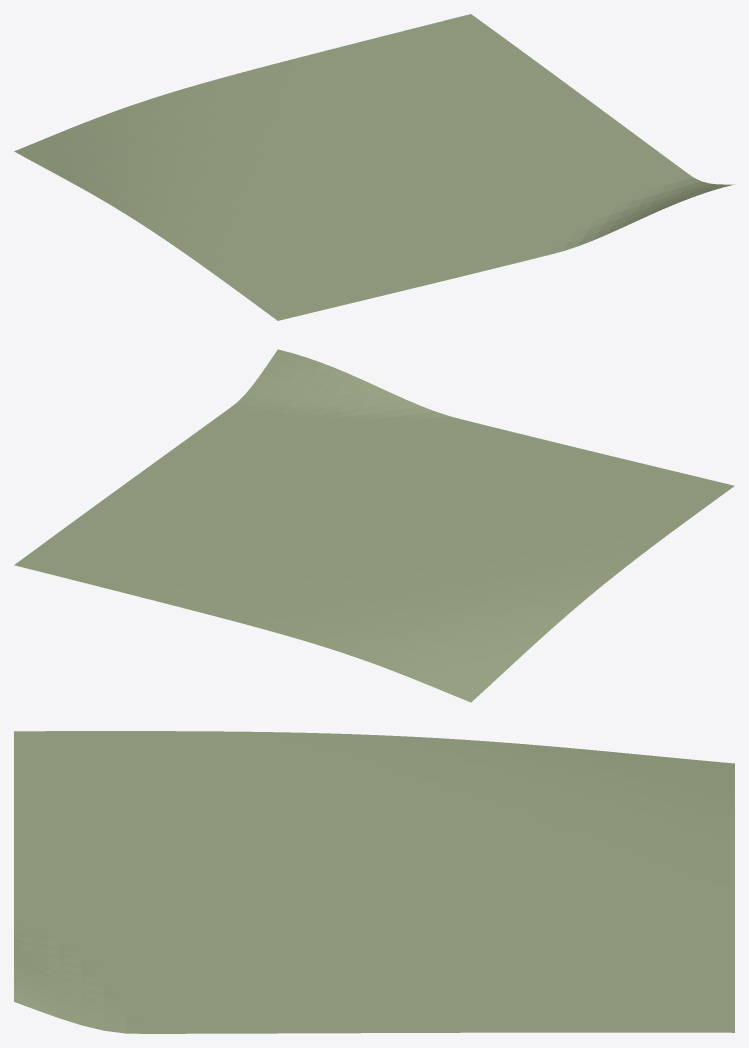
The model's file is desert-13-11.glb.
3 views of the same model, one above another, from view 1: azimuth 30°, elevation 25°; view 2: azimuth 150°, elevation 25°; view 3: azimuth 270°, elevation 25° (orthographic). The views are drawn at different scales.
Parts seen in each view (by area): view 1: desert-13-11; view 2: desert-13-11; view 3: desert-13-11.
Boxes of the visible parts, bbox=[...] form: desert-13-11: bbox=[14, 14, 734, 320]; desert-13-11: bbox=[14, 349, 734, 702]; desert-13-11: bbox=[14, 731, 734, 1033].
Size of the model in its own units: 512 by 51.99 by 512.
